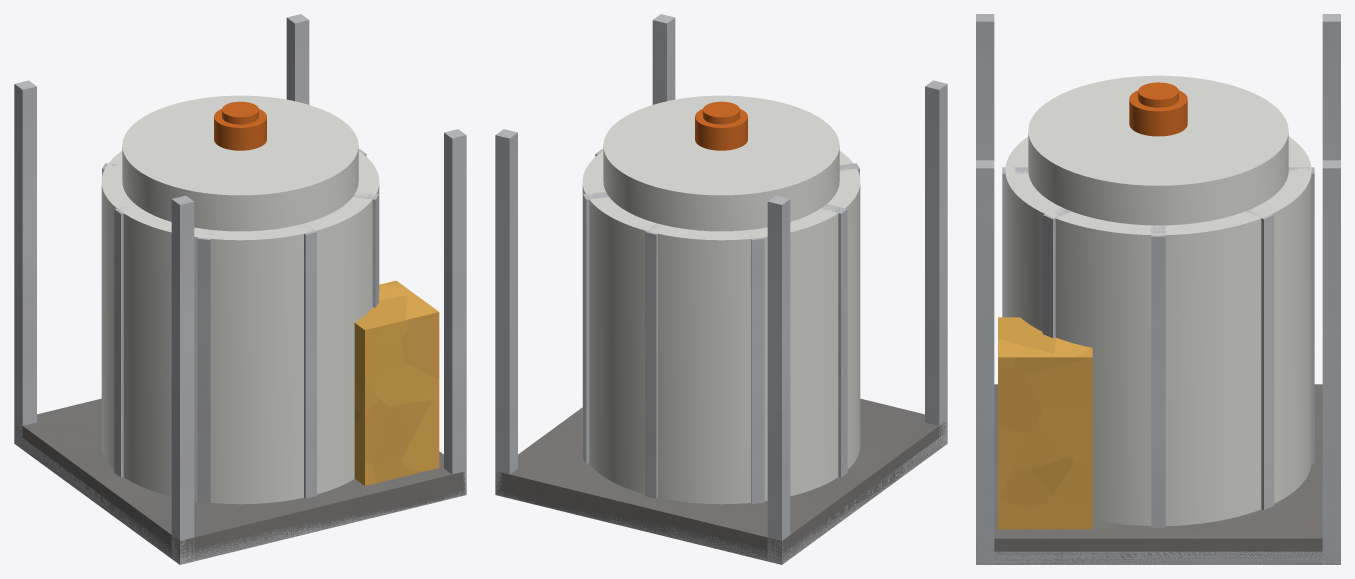
The model's file is power14_reaction_wheel_m.glb.
The picture shows the model from 3 angles, left to right: view 1: azimuth 30°, elevation 25°; view 2: azimuth 150°, elevation 25°; view 3: azimuth 270°, elevation 25°; orthographic projection. The views are drawn at different scales.
Visible parts, largest first — view 1: wheel_housing, slot_frame, base_plate, electronics, housing_ribs, port_1; view 2: wheel_housing, slot_frame, base_plate, housing_ribs, port_1; view 3: wheel_housing, slot_frame, electronics, base_plate, housing_ribs, port_1.
Boxes of the visible parts, left/top/right/bottom form: wheel_housing: left=101, top=95, right=379, bottom=504; slot_frame: left=14, top=14, right=466, bottom=564; base_plate: left=14, top=398, right=466, bottom=564; electronics: left=354, top=280, right=439, bottom=485; housing_ribs: left=102, top=149, right=378, bottom=503; port_1: left=214, top=101, right=266, bottom=150; wheel_housing: left=582, top=95, right=860, bottom=504; slot_frame: left=495, top=14, right=947, bottom=564; base_plate: left=495, top=398, right=947, bottom=564; housing_ribs: left=583, top=149, right=859, bottom=503; port_1: left=695, top=101, right=747, bottom=150; wheel_housing: left=1005, top=75, right=1311, bottom=525; slot_frame: left=976, top=14, right=1340, bottom=564; electronics: left=998, top=317, right=1092, bottom=529; base_plate: left=976, top=384, right=1340, bottom=564; housing_ribs: left=1002, top=167, right=1314, bottom=527; port_1: left=1129, top=82, right=1187, bottom=136.
Bounding box in the file's own units: 0.5 × 0.6 × 0.5.
5 materials, 3 textured.
